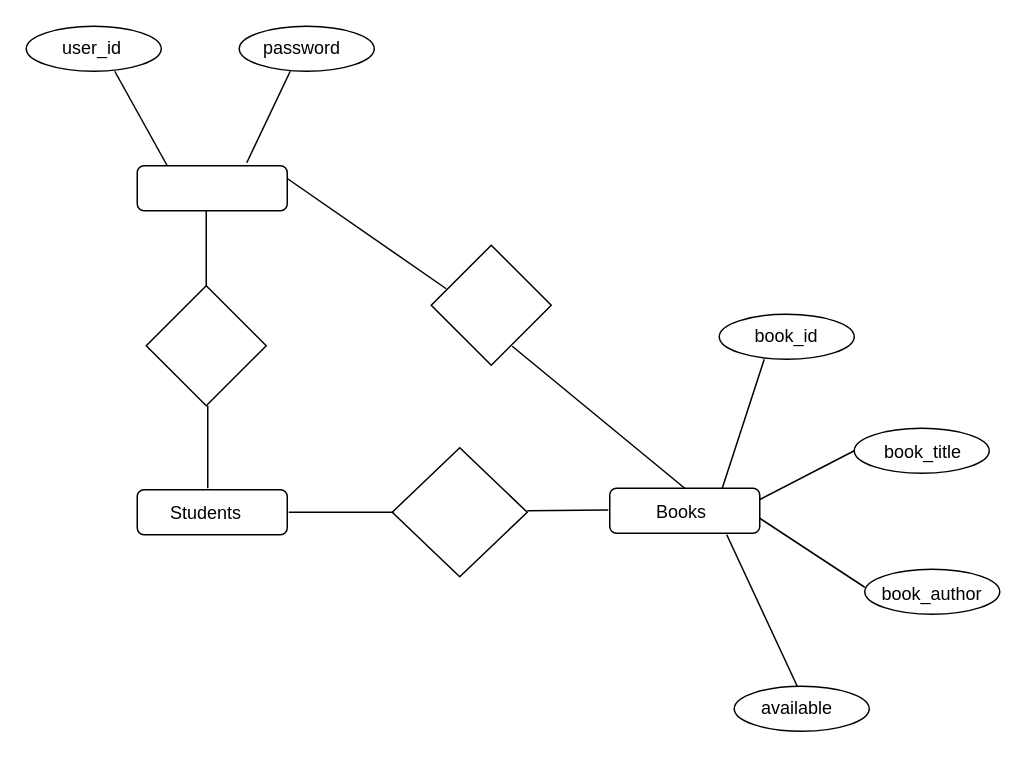
Image size: 1026x758. Some labels were removed from this diagram. Here are the shapes that lost their labels. From the top down, the centre of each, then its label:
At (211,187): "Librarian".
At (490,304): "Maintain".
At (205,345): "Keeps Track of".
At (459,511): "Issue/Return Book".
